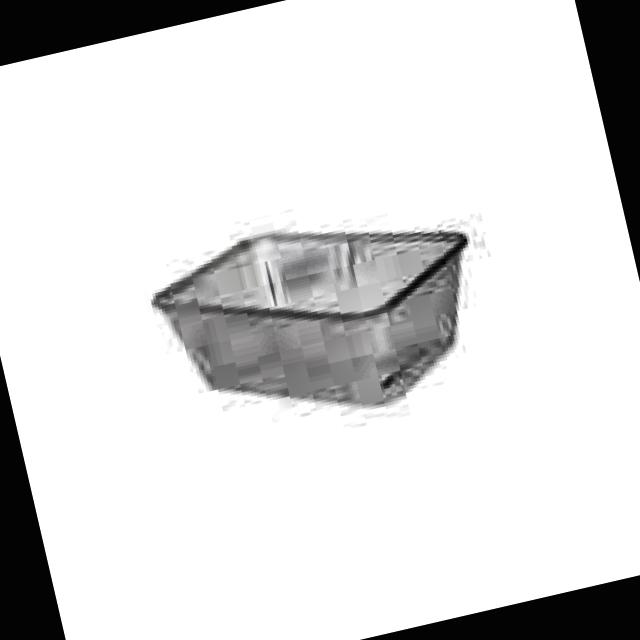plastic container: (153, 231, 466, 403)
